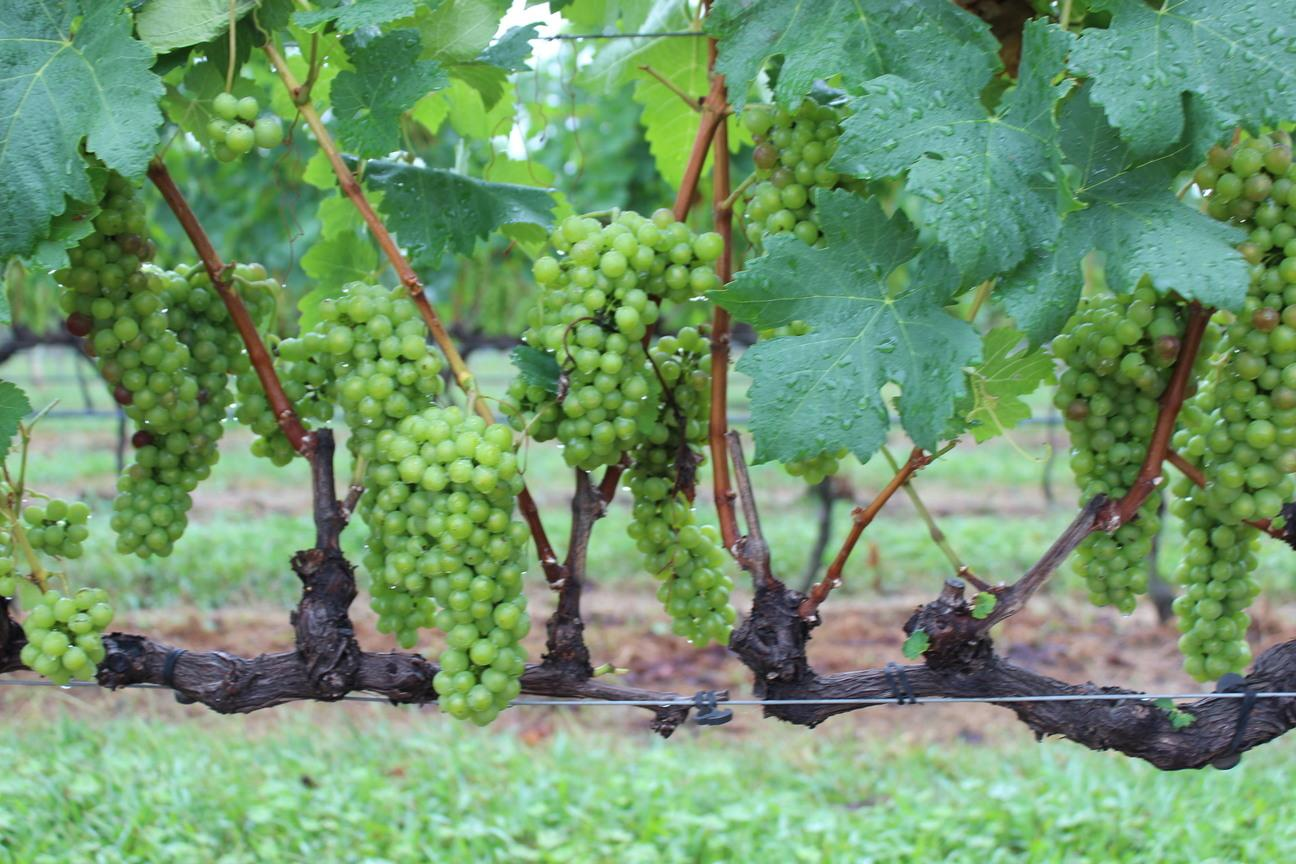leaf: (710, 190, 978, 460), (996, 85, 1246, 341), (832, 18, 1071, 280), (0, 0, 162, 257), (1071, 0, 1295, 156), (706, 0, 996, 109), (363, 160, 553, 263), (332, 28, 448, 156), (965, 326, 1053, 441), (135, 0, 255, 52), (292, 0, 438, 32), (477, 22, 537, 71), (511, 345, 560, 394), (0, 380, 31, 450)
